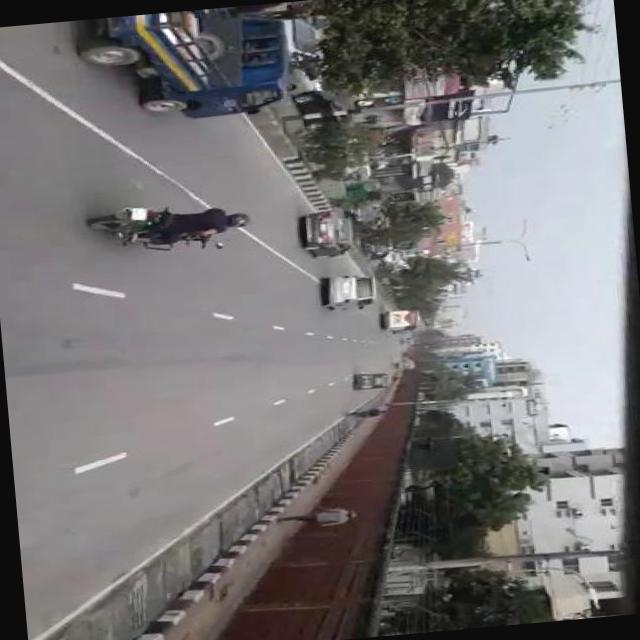bus: (385, 308, 423, 333)
car: (280, 15, 332, 96), (287, 202, 356, 262), (296, 86, 358, 136)
motorcycle: (86, 199, 226, 261), (347, 180, 385, 203), (354, 373, 394, 393)
truck: (80, 4, 300, 130), (327, 272, 382, 314)
